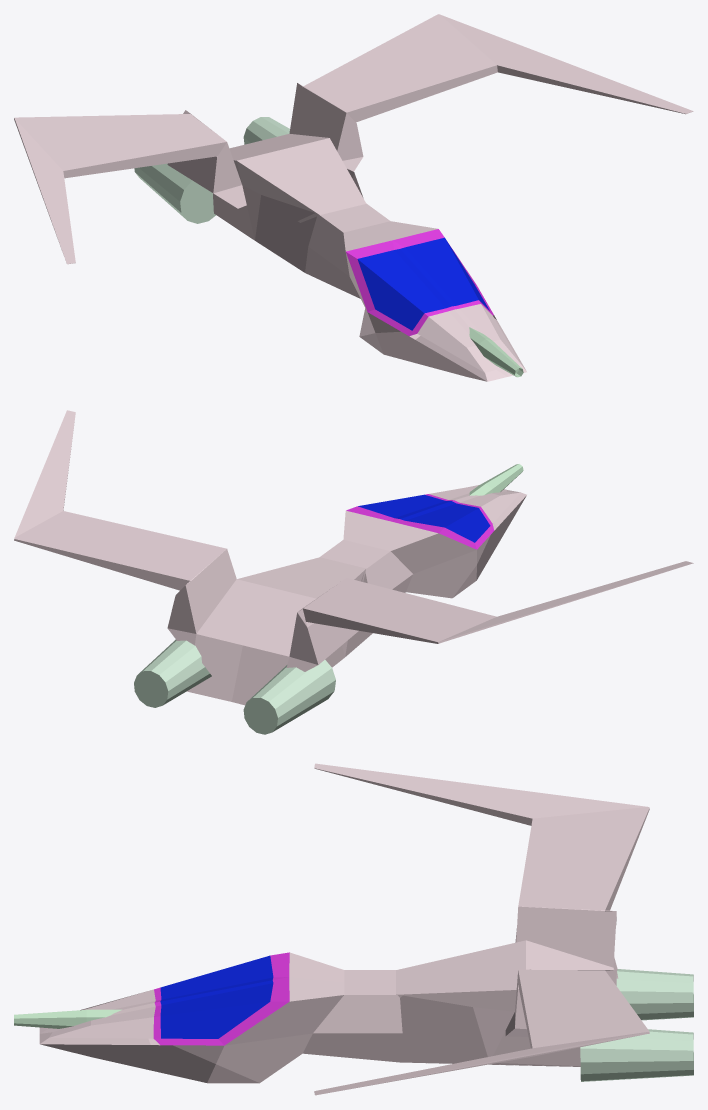
Rendered from emenyModel22.fbx.
3 renders of one model, top to bottom at view 1: azimuth 30°, elevation 25°; view 2: azimuth 150°, elevation 25°; view 3: azimuth 270°, elevation 25°, orthographic. The views are drawn at different scales.
Visible parts, largest first — view 1: body, turbins, gun; view 2: body, turbins, gun; view 3: body, turbins, gun.
Part boxes in pixels (x1,y1,x2,y2): body: [14, 14, 693, 381]; turbins: [134, 117, 289, 223]; gun: [469, 327, 523, 377]; body: [14, 410, 693, 705]; turbins: [134, 639, 335, 734]; gun: [469, 464, 523, 495]; body: [39, 763, 649, 1095]; turbins: [580, 969, 693, 1081]; gun: [14, 1009, 121, 1028].
Bounding box in the file's own units: 1034 × 202 × 895.
